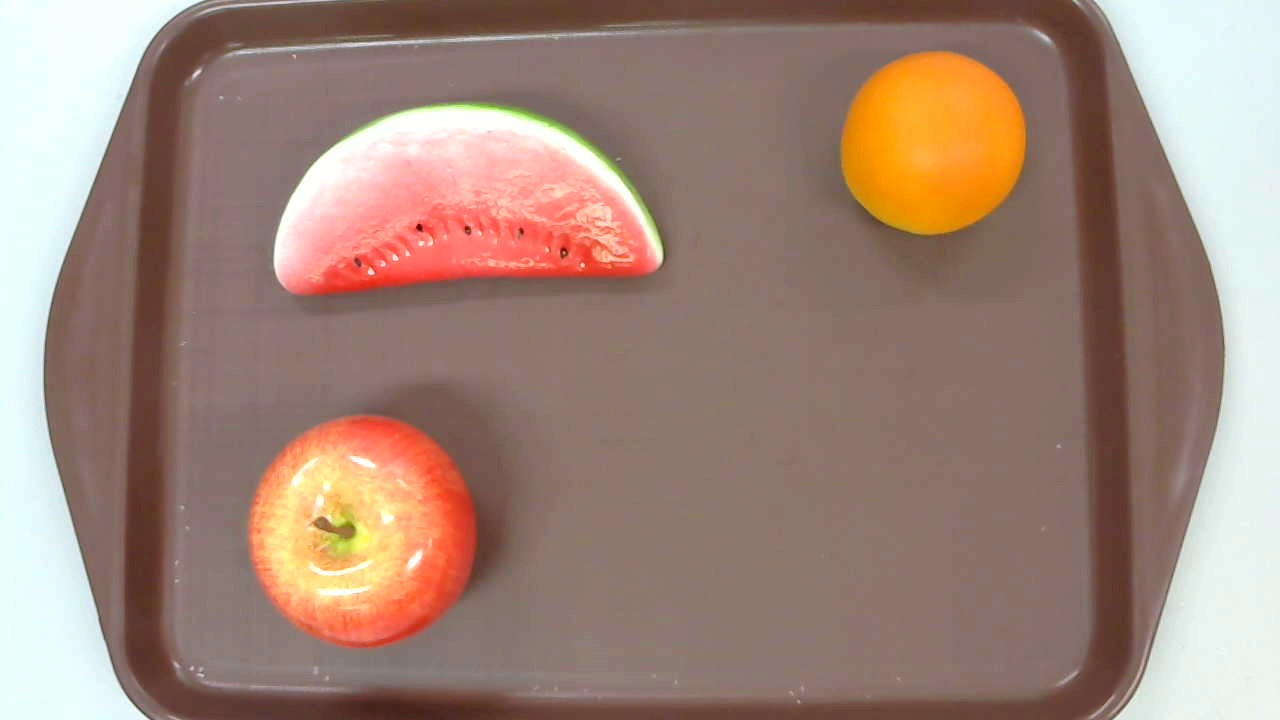bun: (840, 51, 1025, 238)
red apple: (246, 415, 477, 649)
water melon: (271, 101, 665, 298)
